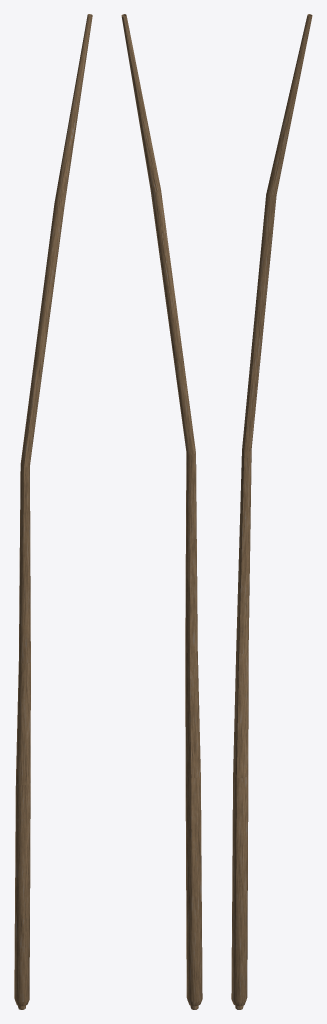
Rendered from Rod.fbx.
3 renders of one model, left to right at view 1: azimuth 30°, elevation 25°; view 2: azimuth 210°, elevation 25°; view 3: azimuth 330°, elevation 25°, orthographic. The views are drawn at different scales.
Visible parts, largest first — view 1: Rod; view 2: Rod; view 3: Rod.
Part boxes in pixels (<box>): Rod: <box>14,14,92,1009</box>; Rod: <box>121,14,202,1009</box>; Rod: <box>231,14,312,1009</box>.
Size of the model in its own units: 119 by 1438 by 27.66.
